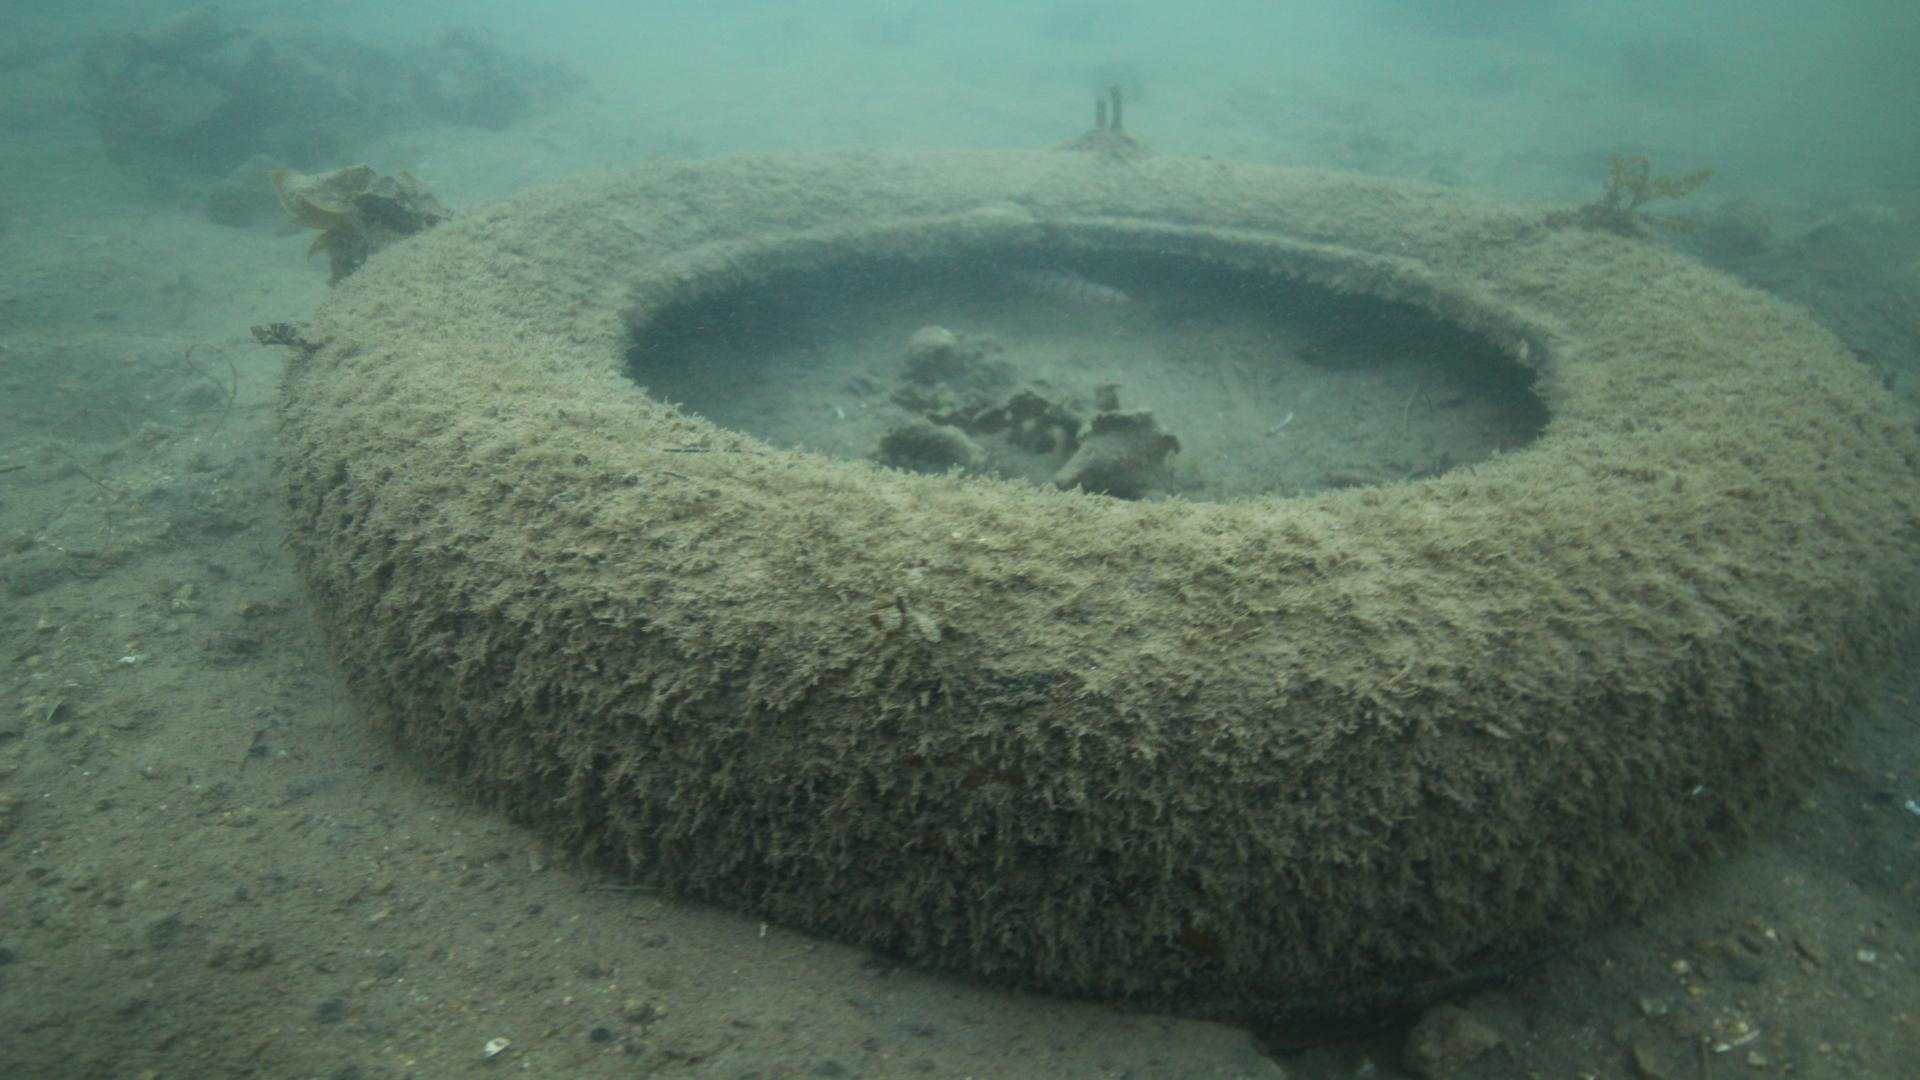tire: (281, 149, 1920, 1025)
